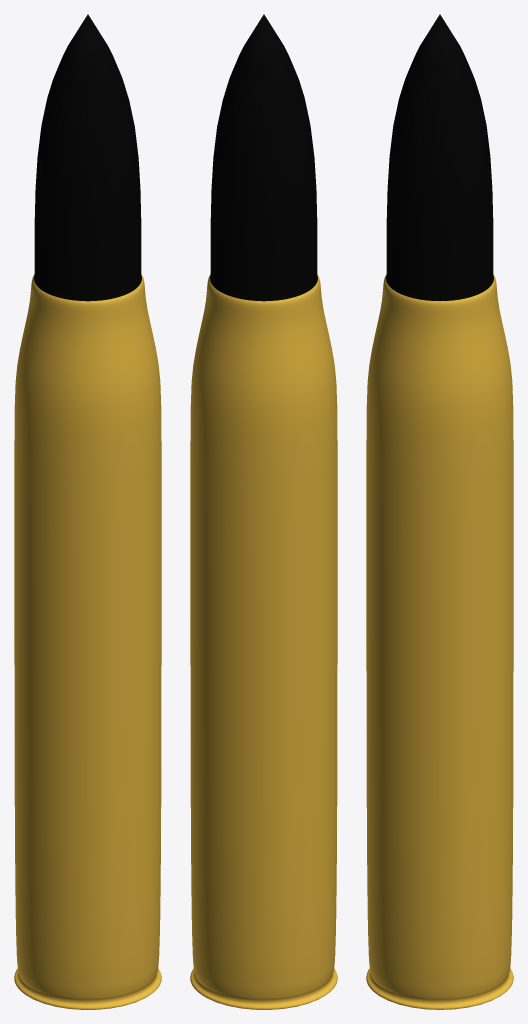
The model's file is autocannon (1).fbx.
3 renders of one model, left to right at view 1: azimuth 30°, elevation 25°; view 2: azimuth 150°, elevation 25°; view 3: azimuth 270°, elevation 25°, orthographic.
Parts seen in each view (by area): view 1: Cylinder; view 2: Cylinder; view 3: Cylinder.
Part boxes in pixels (<box>): Cylinder: <box>14,14,161,1009</box>; Cylinder: <box>190,14,337,1009</box>; Cylinder: <box>366,14,513,1009</box>.
Size of the model in its own units: 0.9956 by 7.22 by 0.9956.
